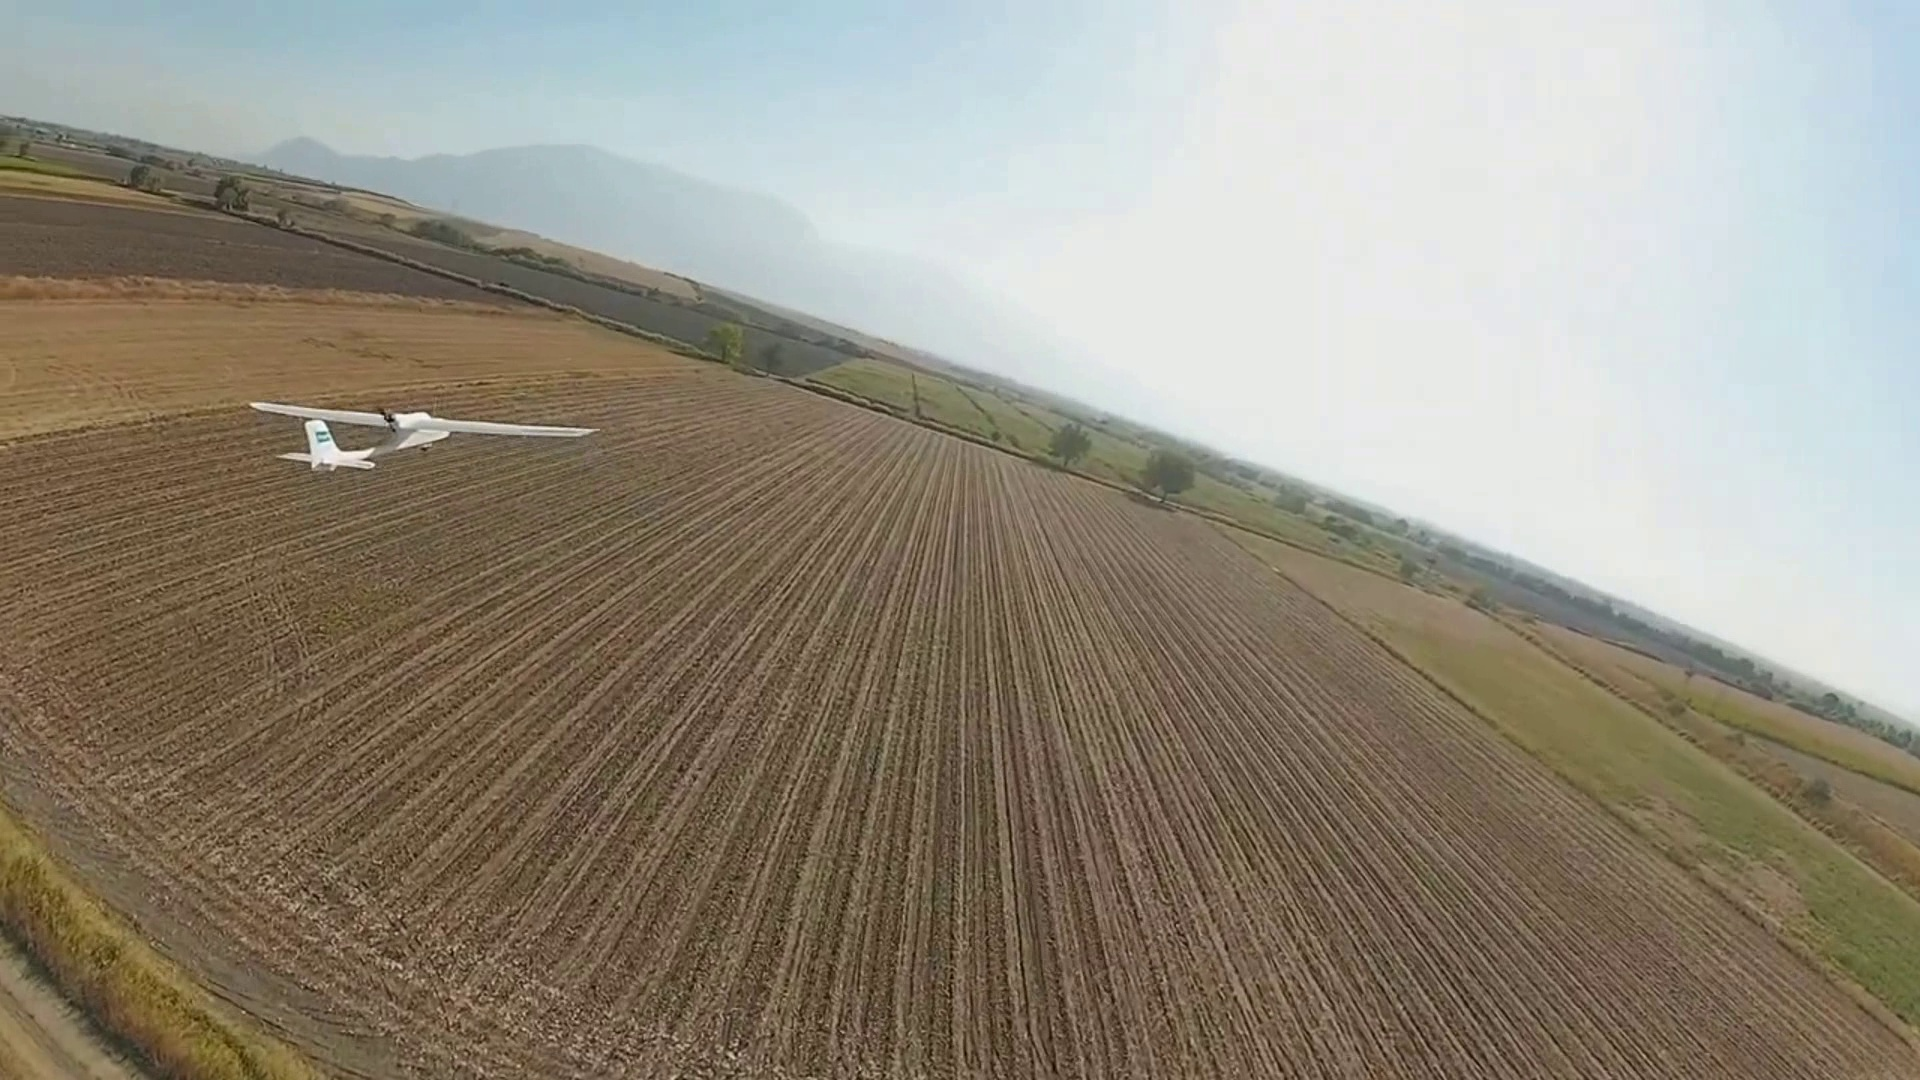airplane: (244, 400, 593, 466)
